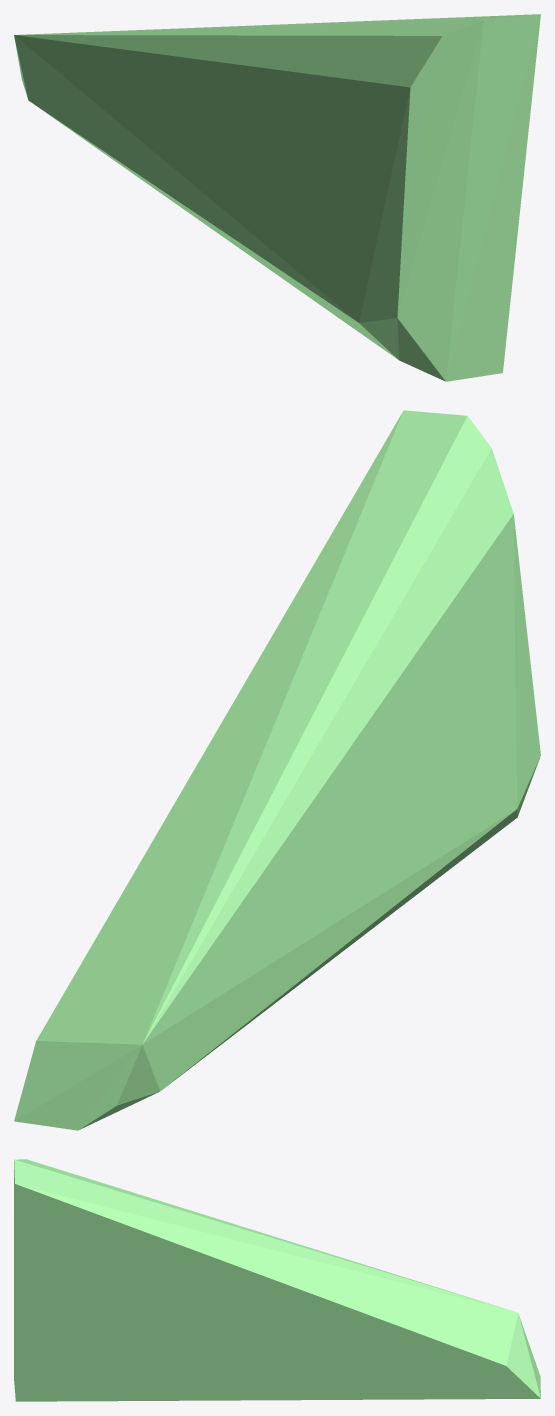
File: UMIRobot_UMIRobot_link_4_convex_coll_10.dae
3 renders of one model, top to bottom at view 1: azimuth 30°, elevation 25°; view 2: azimuth 150°, elevation 25°; view 3: azimuth 270°, elevation 25°, orthographic. The views are drawn at different scales.
Visible parts, largest first — view 1: node; view 2: node; view 3: node.
Boxes of the visible parts, x1,y1,x2,y2 form: node: (14, 14, 540, 381); node: (14, 410, 540, 1130); node: (14, 1159, 540, 1401).
Size of the model in its own units: 0.00844 by 0.02 by 0.0406.
